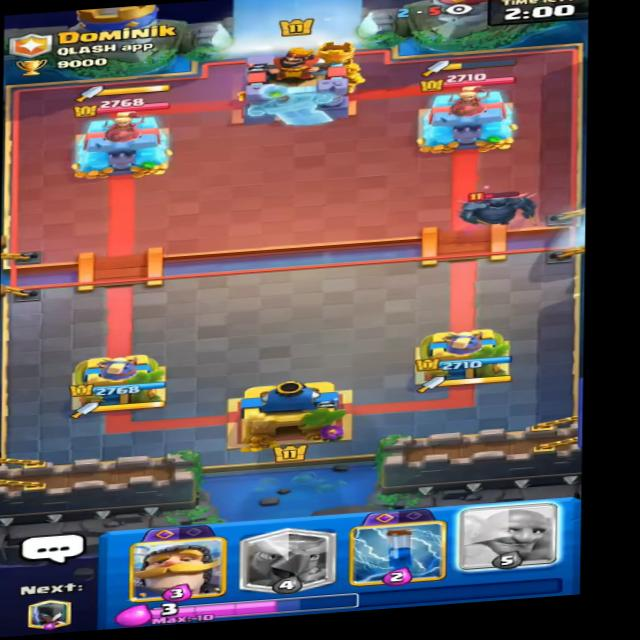pekka: (456, 181, 541, 236)
